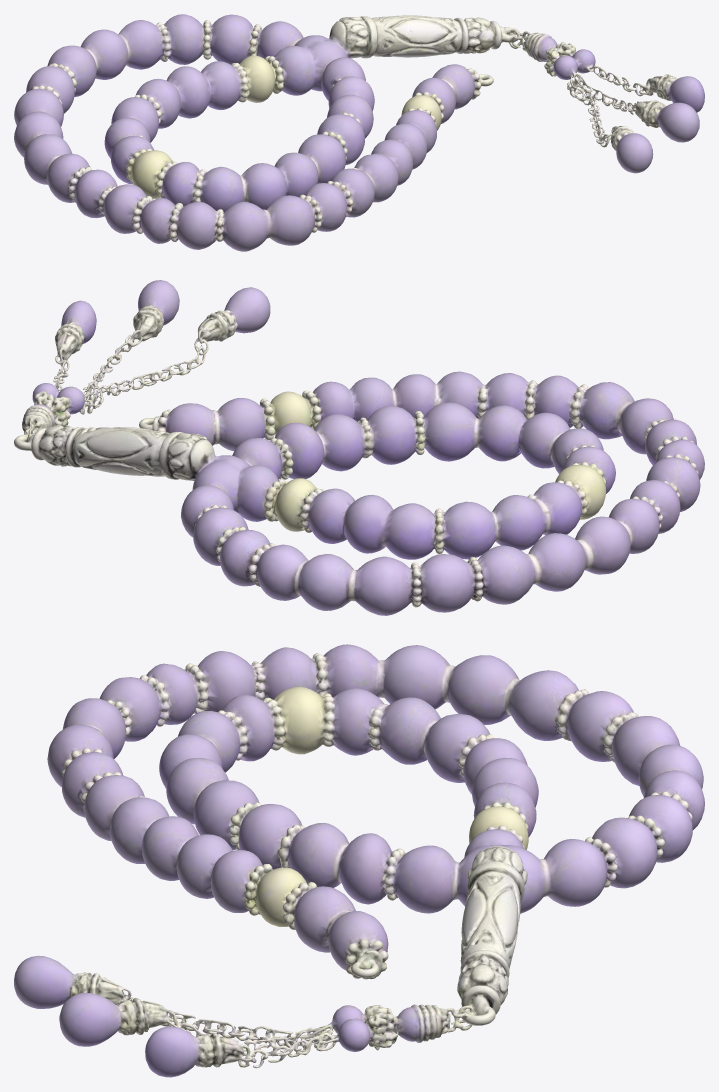
The model's file is tasbih-07-lavender-silver.glb.
3 views of the same model, one above another, from view 1: azimuth 30°, elevation 25°; view 2: azimuth 150°, elevation 25°; view 3: azimuth 270°, elevation 25° (orthographic). The views are drawn at different scales.
Visible parts, largest first — view 1: mesh_node; view 2: mesh_node; view 3: mesh_node.
Boxes of the visible parts, x1,y1,x2,y2 form: mesh_node: (14,14,704,251); mesh_node: (14,280,704,615); mesh_node: (14,644,704,1077).
Size of the model in its own units: 1.9 by 0.2113 by 1.42.
1 material, 1 textured.
